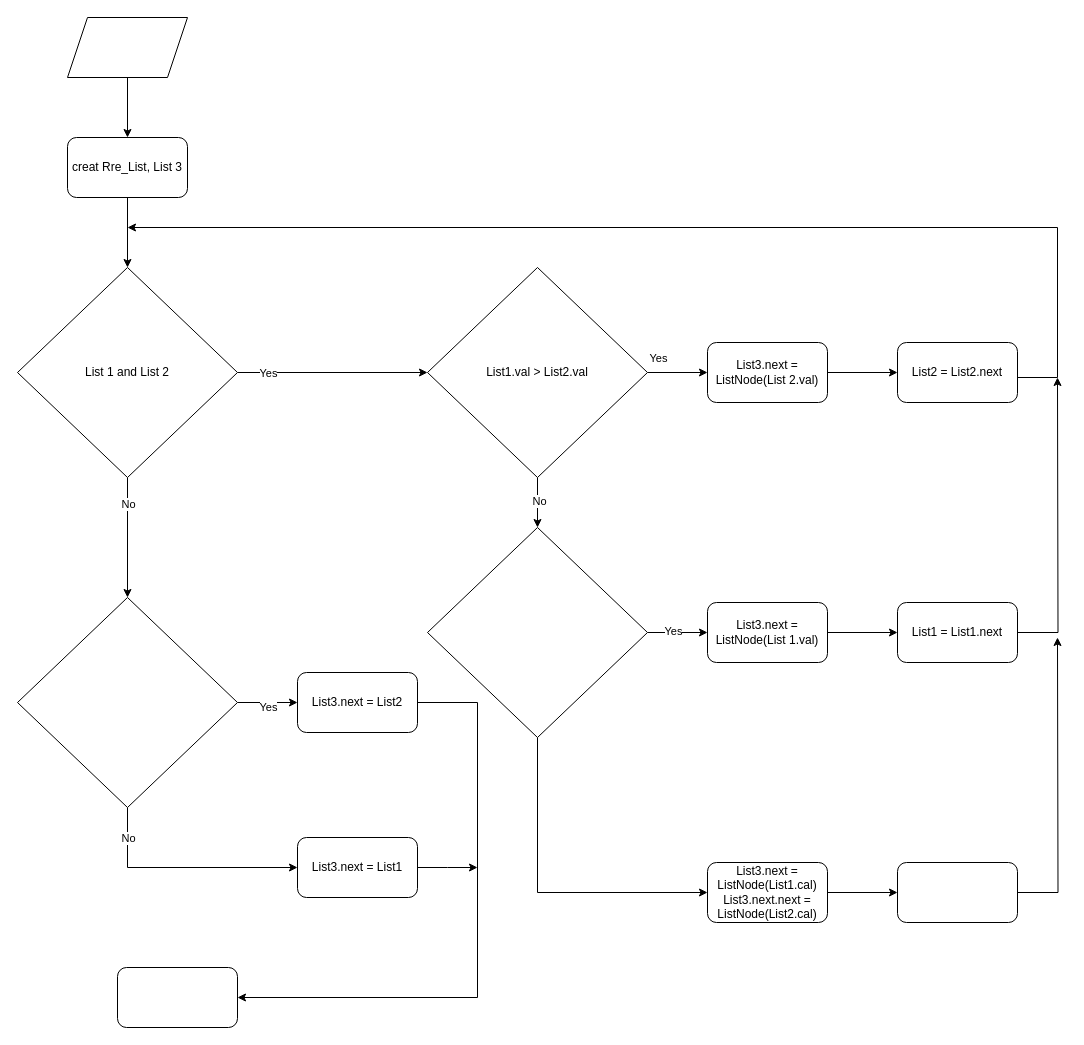
This 1084x1045 diagram has some shape labels left out. The box of each missing label's shape, as (x1, y1, x2, y2) in pixels:
List 1 is Null: (16, 596, 238, 808)
List 1/2: (66, 16, 188, 78)
List1 = List1.next List2 = List2.next: (896, 862, 1018, 922)
List1.val < List2.val: (426, 526, 648, 738)
Return Pre_List3.next: (116, 966, 238, 1028)
